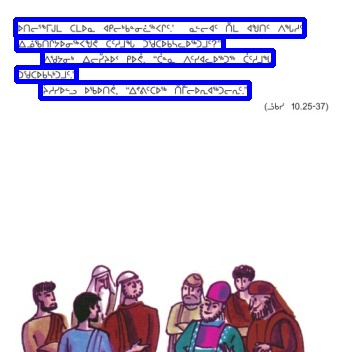inuktitut: (15, 19, 304, 36), (42, 50, 273, 65), (40, 82, 249, 98), (16, 37, 223, 50), (16, 67, 76, 81)
